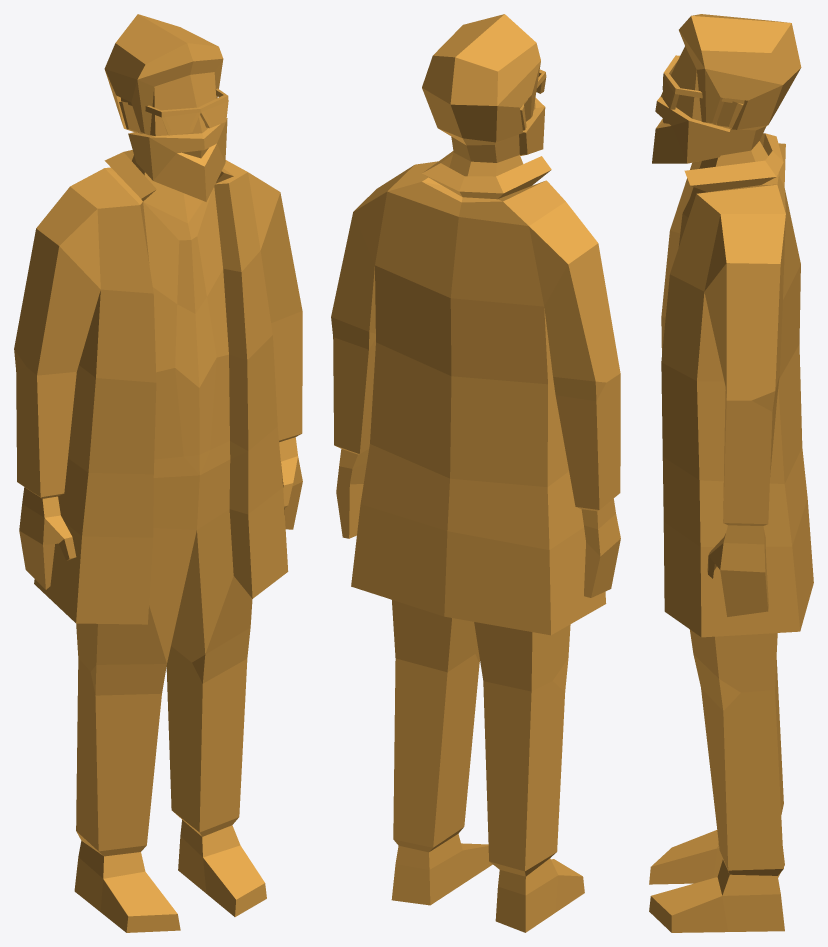
The model's file is man-doctor.fbx.
3 renders of one model, left to right at view 1: azimuth 30°, elevation 25°; view 2: azimuth 150°, elevation 25°; view 3: azimuth 270°, elevation 25°, orthographic.
Visible parts, largest first — view 1: man-doctor; view 2: man-doctor; view 3: man-doctor.
Boxes of the visible parts, bbox=[...] form: man-doctor: bbox=[14, 14, 302, 932]; man-doctor: bbox=[331, 14, 620, 932]; man-doctor: bbox=[649, 14, 813, 932].
Size of the model in its own units: 0.5881 by 1.83 by 0.3102.
